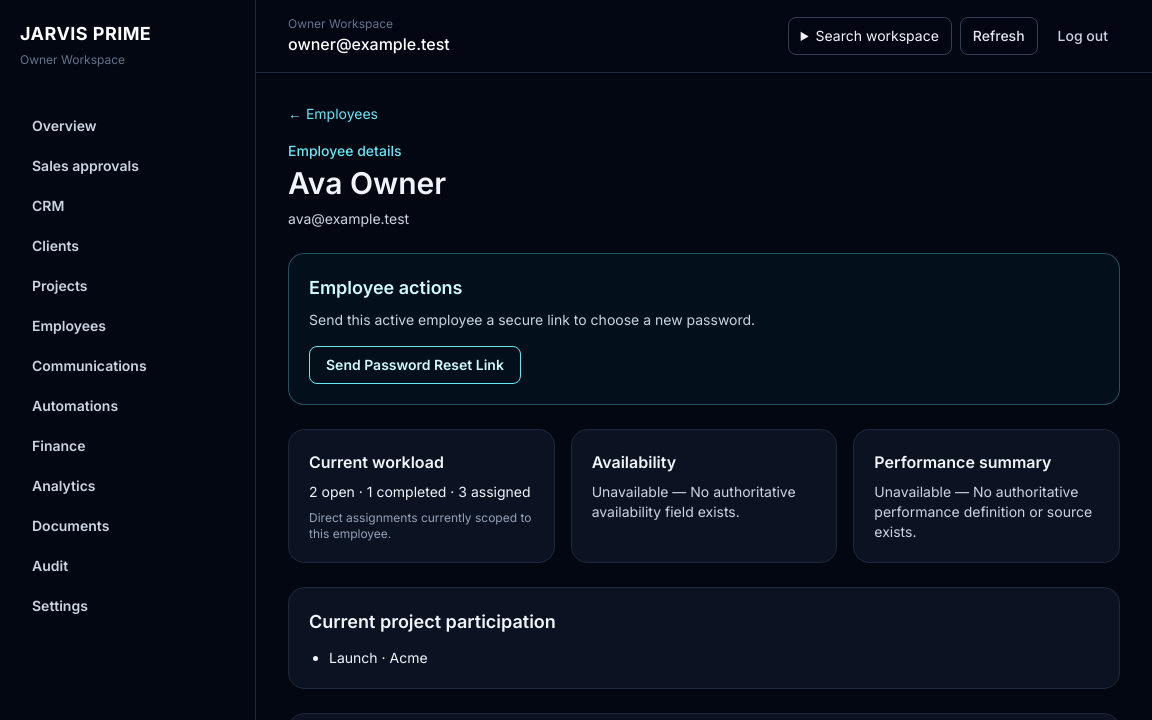
Test: Owner Workspace employees › shows the Owner reset action and lets cancellation close the confirmation without a request
expect the heading "Ava Owner" is shown: met, box [288,165,446,201]
expect the text "ava@example.test" is shown: met, box [288,210,409,227]
Click the button "Send Password Reset Link" at (415, 365), box [309,346,521,384]
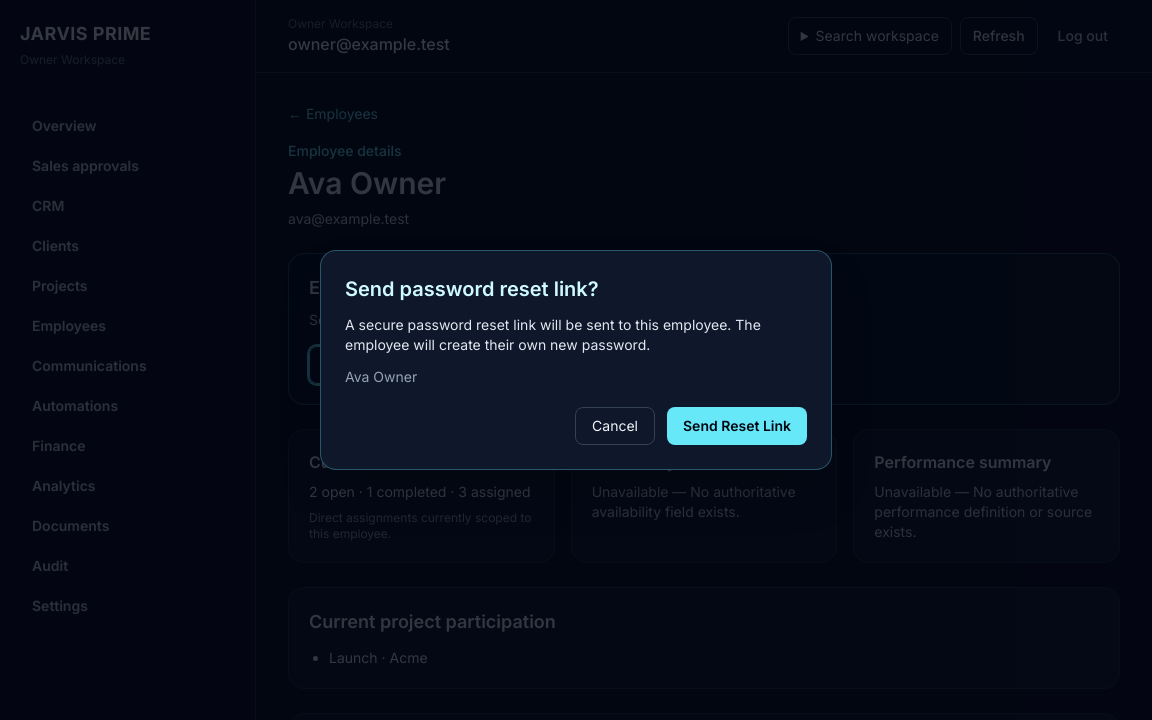
expect the dialog "Send password reset link?" is shown: met, box [320,250,832,470]
expect the text "The employee will create their own new password" is shown: met, box [345,316,761,353]
Click the button "Cancel" at (615, 426), box [575,407,655,445]
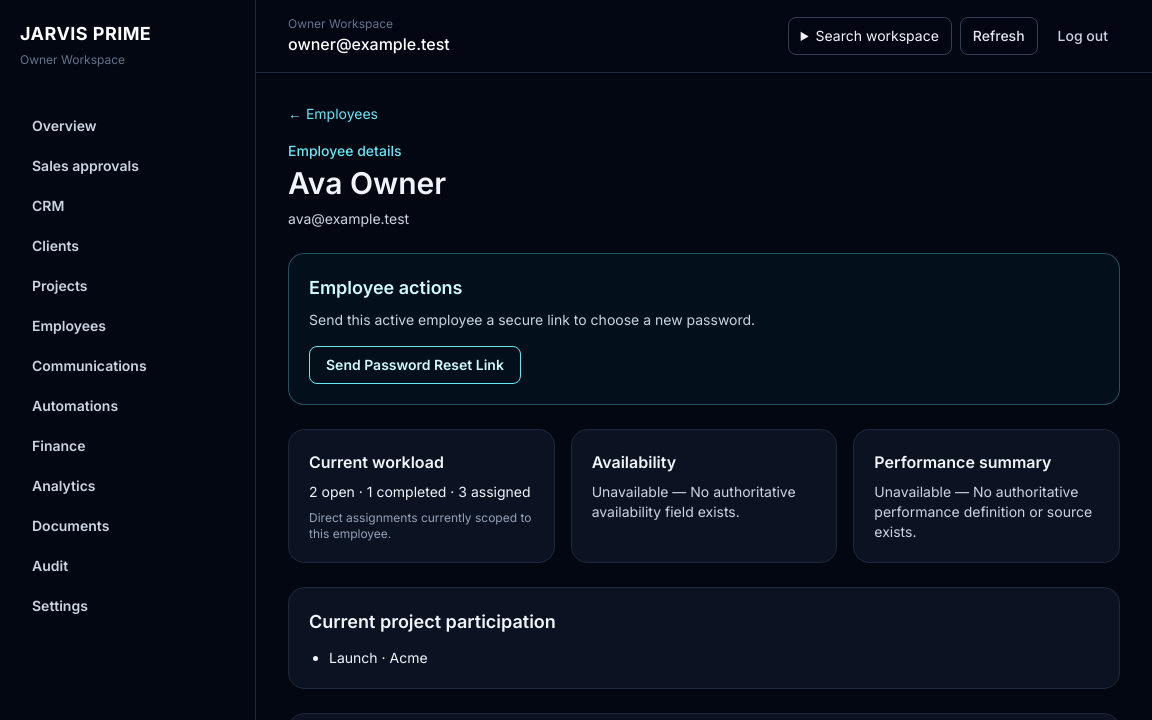
expect the dialog is gone: met
